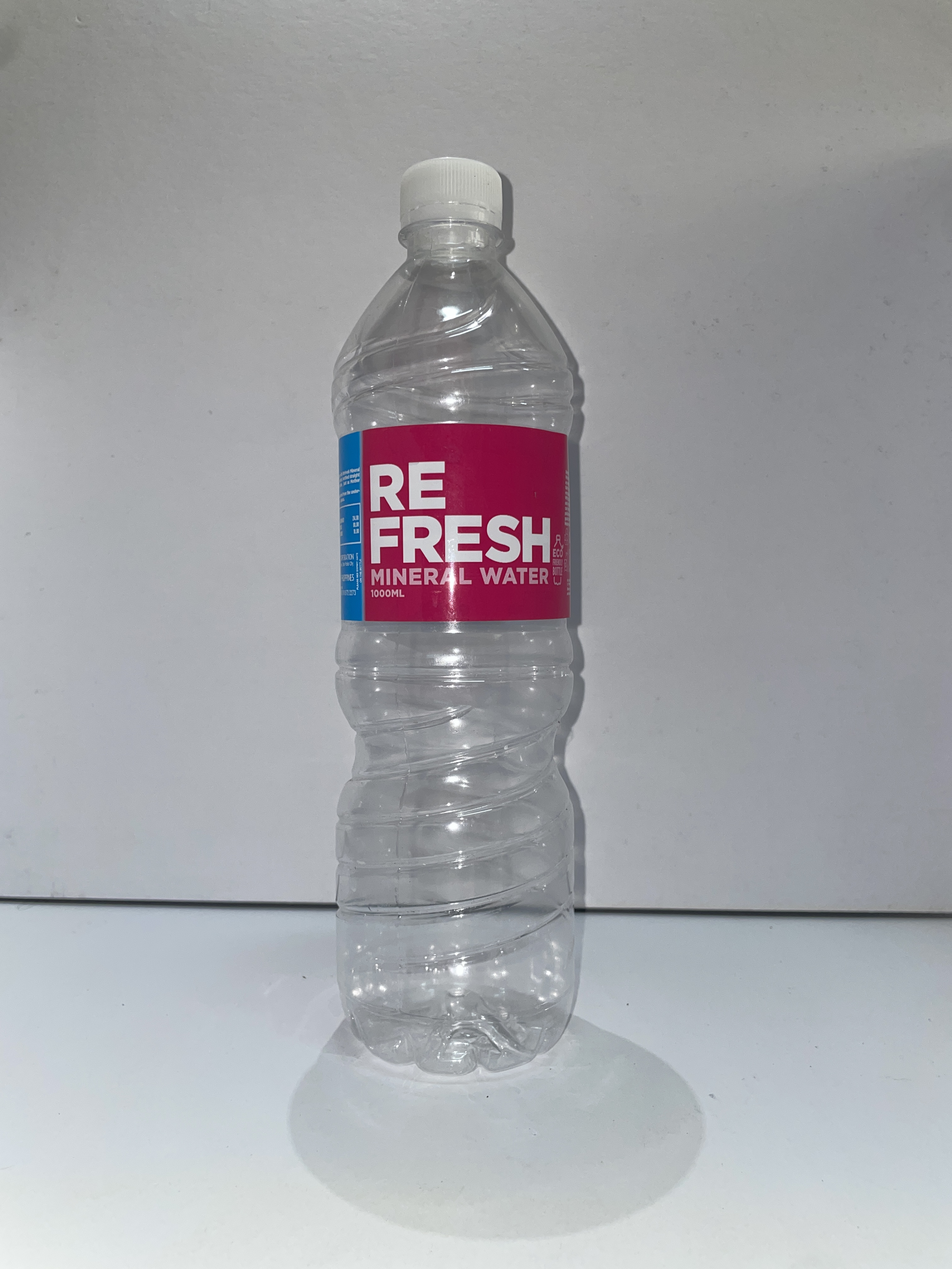Refresh 1000ml: (332, 158, 575, 1074)
